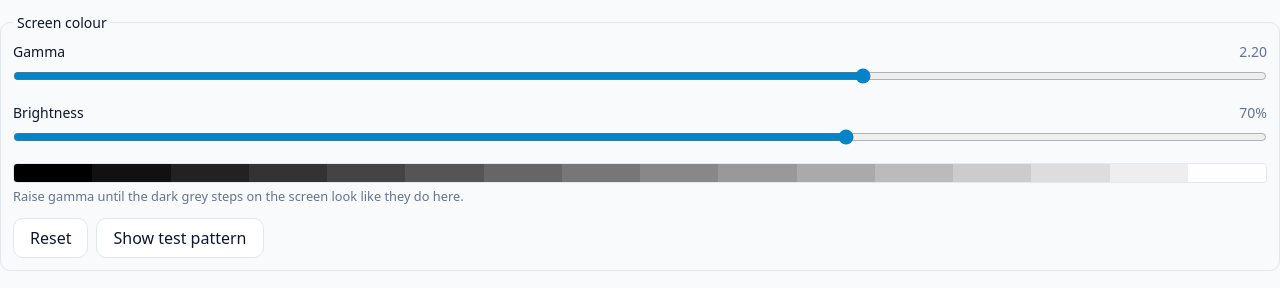
Scenario: Calibration › Reset sends gamma 1 and brightness 100
Click the button "Reset".
click(51, 238)  # box x1=13 y1=218 x2=88 y2=258
Wait 150 ms
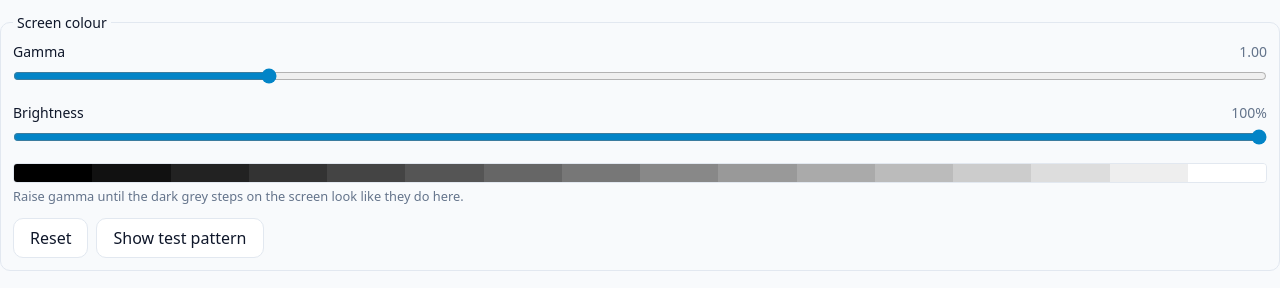
Check: the slider labelled "Gamma" holds "1", box x1=13 y1=68 x2=1267 y2=84
Check: the slider labelled "Brightness" holds "100", box x1=13 y1=129 x2=1267 y2=145
